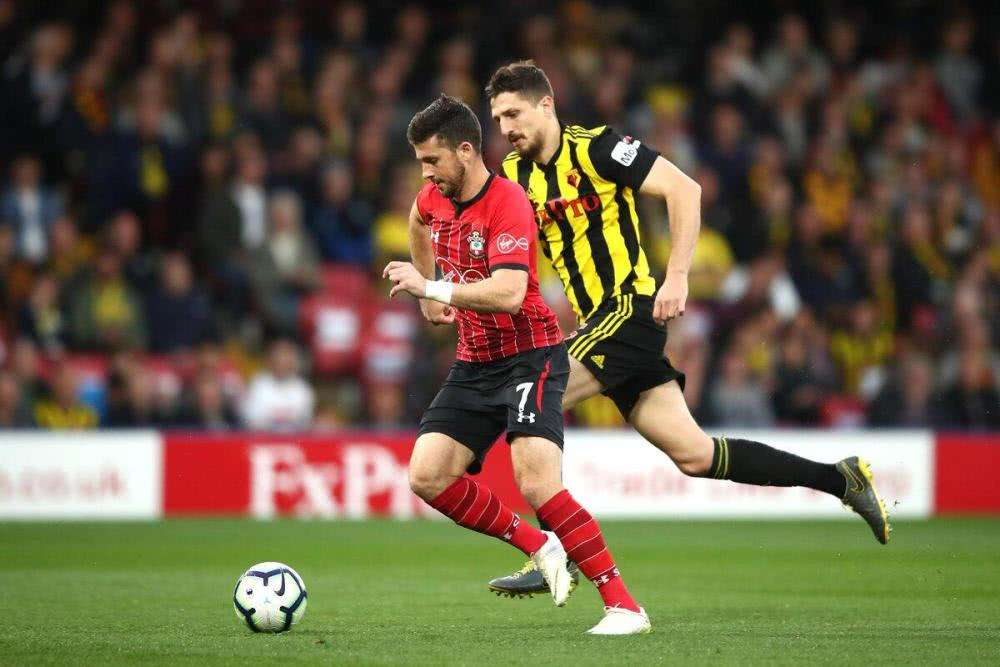ball: (231, 559, 310, 635)
